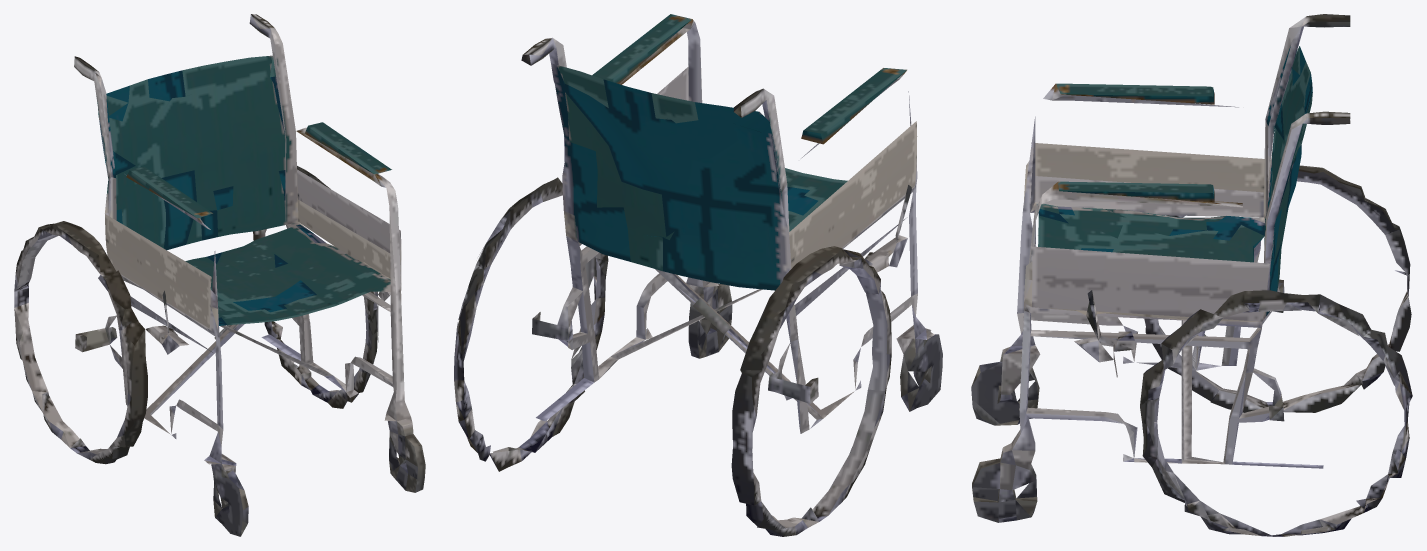
File: wheelchair_01.glb
The picture shows the model from 3 angles, left to right: view 1: azimuth 30°, elevation 25°; view 2: azimuth 150°, elevation 25°; view 3: azimuth 270°, elevation 25°; orthographic projection. The views are drawn at different scales.
Parts seen in each view (by area): view 1: mesh; view 2: mesh; view 3: mesh.
Part boxes in pixels (x1,y1,x2,y2): mesh: [14, 14, 425, 536]; mesh: [454, 14, 942, 536]; mesh: [971, 14, 1412, 536].
Size of the model in its own units: 0.799 by 1.1 by 1.08.
Materials: 1 (1 with a texture image).
